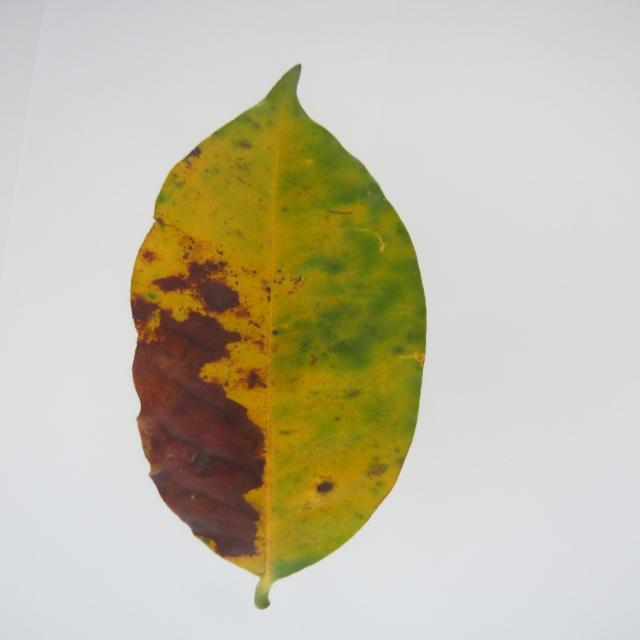DeficienciaNutricional-Potasio: (132, 66, 425, 608)
